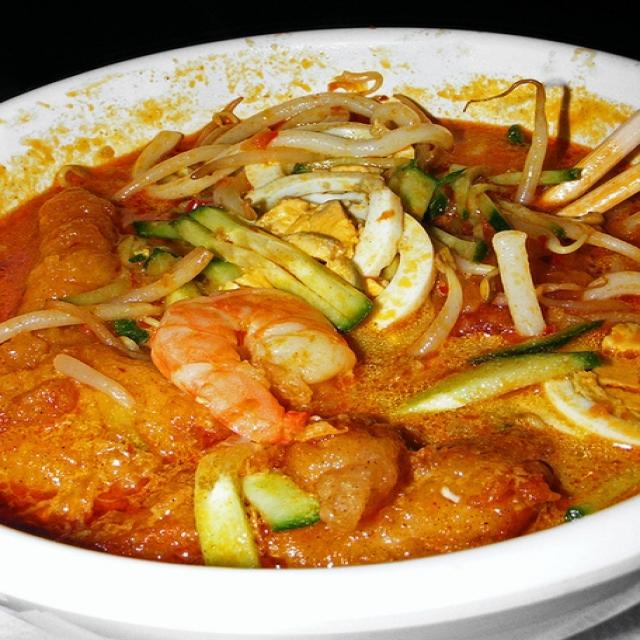面条主食: (10, 40, 626, 580)
